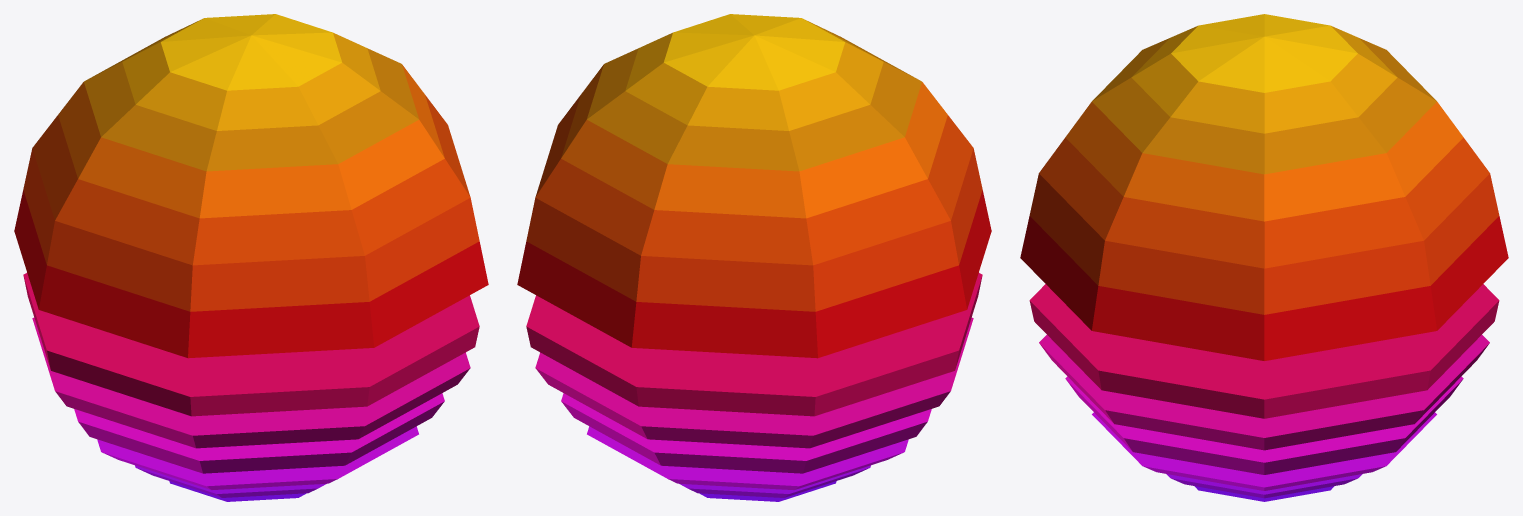
The model's file is Player 1.fbx.
The picture shows the model from 3 angles, left to right: view 1: azimuth 30°, elevation 25°; view 2: azimuth 150°, elevation 25°; view 3: azimuth 270°, elevation 25°; orthographic projection.
Visible parts, largest first — view 1: Sphere; view 2: Sphere; view 3: Sphere.
Part boxes in pixels (x1=…): Sphere: x1=14, y1=14, x2=488, y2=501; Sphere: x1=517, y1=14, x2=991, y2=501; Sphere: x1=1020, y1=14, x2=1508, y2=501.
Bounding box in the file's own units: 200 × 200 × 200.
